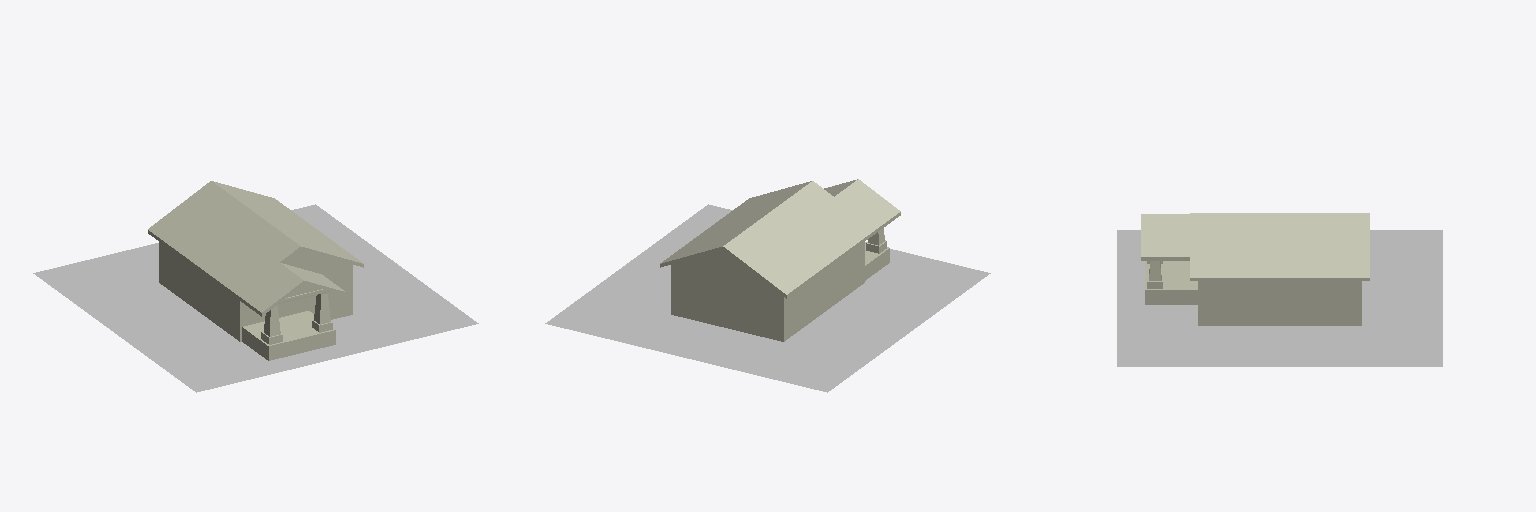
File: craftsman.obj
The picture shows the model from 3 angles: view 1: azimuth 30°, elevation 25°; view 2: azimuth 150°, elevation 25°; view 3: azimuth 270°, elevation 25°; orthographic projection.
Visible parts, largest first — view 1: craftsman.obj; view 2: craftsman.obj; view 3: craftsman.obj.
Part boxes in pixels (left/top/right/bottom): craftsman.obj: left=33, top=181, right=478, bottom=392; craftsman.obj: left=545, top=179, right=990, bottom=392; craftsman.obj: left=1117, top=213, right=1442, bottom=366.
Bounding box in the file's own units: 20 × 5.75 × 20.